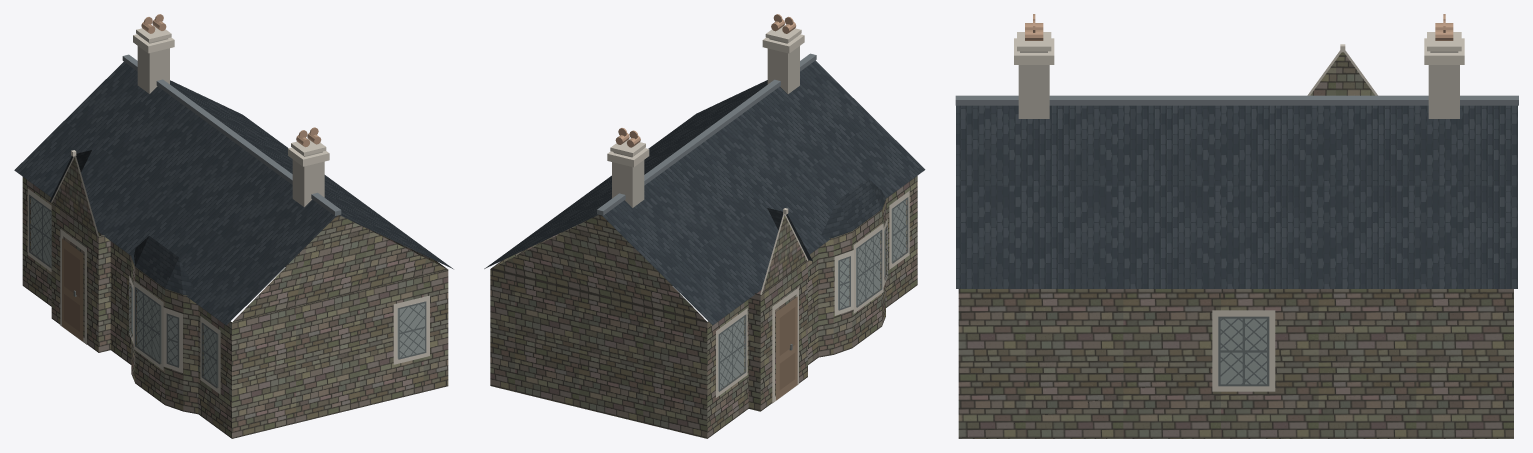
3 renders of one model, left to right at view 1: azimuth 30°, elevation 25°; view 2: azimuth 150°, elevation 25°; view 3: azimuth 270°, elevation 25°, orthographic. The views are drawn at different scales.
Parts seen in each view (by area): view 1: Main_Slate_Roof_001, Main_Ashlar_Wall_Mass_000, Projecting_Entrance_Gable_Ashlar_003, Faceted_Bay_Ashlar_Masonry_011, Faceted_Bay_Slate_Hip_012, Slate_Ridge_Capping_002, Bay_Front_Three_Light_Glass_013, North_Gable_Casement_Glass_031, Tall_Square_Sandstone_Chimney_034, Tall_Square_Sandstone_Chimney_042, Door_Raised_Panels_009, West_South_Paired_Casement_Glass_022 (+14 smaller); view 2: Main_Slate_Roof_001, Main_Ashlar_Wall_Mass_000, Projecting_Entrance_Gable_Ashlar_003, Faceted_Bay_Ashlar_Masonry_011, Faceted_Bay_Slate_Hip_012, Slate_Ridge_Capping_002, West_South_Paired_Casement_Glass_022, Bay_Front_Three_Light_Glass_013, Tall_Square_Sandstone_Chimney_034, Tall_Square_Sandstone_Chimney_042, Door_Raised_Panels_009, Oak_Panelled_Door_008 (+12 smaller); view 3: Main_Slate_Roof_001, Main_Ashlar_Wall_Mass_000, Slate_Ridge_Capping_002, East_Rear_Casement_Glass_028, East_Rear_Casement_Timber_and_Lead_030, East_Rear_Casement_Dressed_Stone_029, Tall_Square_Sandstone_Chimney_034, Tall_Square_Sandstone_Chimney_042, Projecting_Entrance_Gable_Ashlar_003, Projecting_Chimney_Cap_Course_035, Projecting_Chimney_Cap_Course_043, Chimney_Top_Coping_037.
Part boxes in pixels (<box>): Main_Slate_Roof_001: <box>14,62,453,325</box>; Main_Ashlar_Wall_Mass_000: <box>22,177,448,438</box>; Projecting_Entrance_Gable_Ashlar_003: <box>51,157,110,352</box>; Faceted_Bay_Ashlar_Masonry_011: <box>131,258,198,414</box>; Faceted_Bay_Slate_Hip_012: <box>131,236,195,295</box>; Slate_Ridge_Capping_002: <box>122,54,341,215</box>; Bay_Front_Three_Light_Glass_013: <box>137,288,161,363</box>; North_Gable_Casement_Glass_031: <box>397,303,424,358</box>; Tall_Square_Sandstone_Chimney_034: <box>137,46,169,93</box>; Tall_Square_Sandstone_Chimney_042: <box>292,159,324,207</box>; Door_Raised_Panels_009: <box>64,248,79,331</box>; West_South_Paired_Casement_Glass_022: <box>31,198,51,266</box>; Main_Slate_Roof_001: <box>484,60,925,325</box>; Main_Ashlar_Wall_Mass_000: <box>490,176,917,438</box>; Projecting_Entrance_Gable_Ashlar_003: <box>748,215,807,411</box>; Faceted_Bay_Ashlar_Masonry_011: <box>818,200,885,357</box>; Faceted_Bay_Slate_Hip_012: <box>821,178,885,238</box>; Slate_Ridge_Capping_002: <box>597,53,816,215</box>; West_South_Paired_Casement_Glass_022: <box>718,316,744,390</box>; Bay_Front_Three_Light_Glass_013: <box>856,231,880,306</box>; Tall_Square_Sandstone_Chimney_034: <box>612,160,644,207</box>; Tall_Square_Sandstone_Chimney_042: <box>767,46,799,93</box>; Door_Raised_Panels_009: <box>779,307,795,390</box>; Oak_Panelled_Door_008: <box>776,296,797,400</box>; Main_Slate_Roof_001: <box>956,105,1517,288</box>; Main_Ashlar_Wall_Mass_000: <box>958,289,1513,438</box>; Slate_Ridge_Capping_002: <box>955,95,1518,105</box>; East_Rear_Casement_Glass_028: <box>1220,318,1266,384</box>; East_Rear_Casement_Timber_and_Lead_030: <box>1218,316,1269,386</box>; East_Rear_Casement_Dressed_Stone_029: <box>1212,310,1275,391</box>; Tall_Square_Sandstone_Chimney_034: <box>1428,65,1459,118</box>; Tall_Square_Sandstone_Chimney_042: <box>1018,65,1049,118</box>; Projecting_Entrance_Gable_Ashlar_003: <box>1310,52,1374,95</box>; Projecting_Chimney_Cap_Course_035: <box>1424,38,1464,64</box>; Projecting_Chimney_Cap_Course_043: <box>1014,38,1054,64</box>; Chimney_Top_Coping_037: <box>1427,32,1461,51</box>.
Bounding box in the file's own units: 5.64 × 5.91 × 8.67.
Materials: 11 (2 with a texture image).
